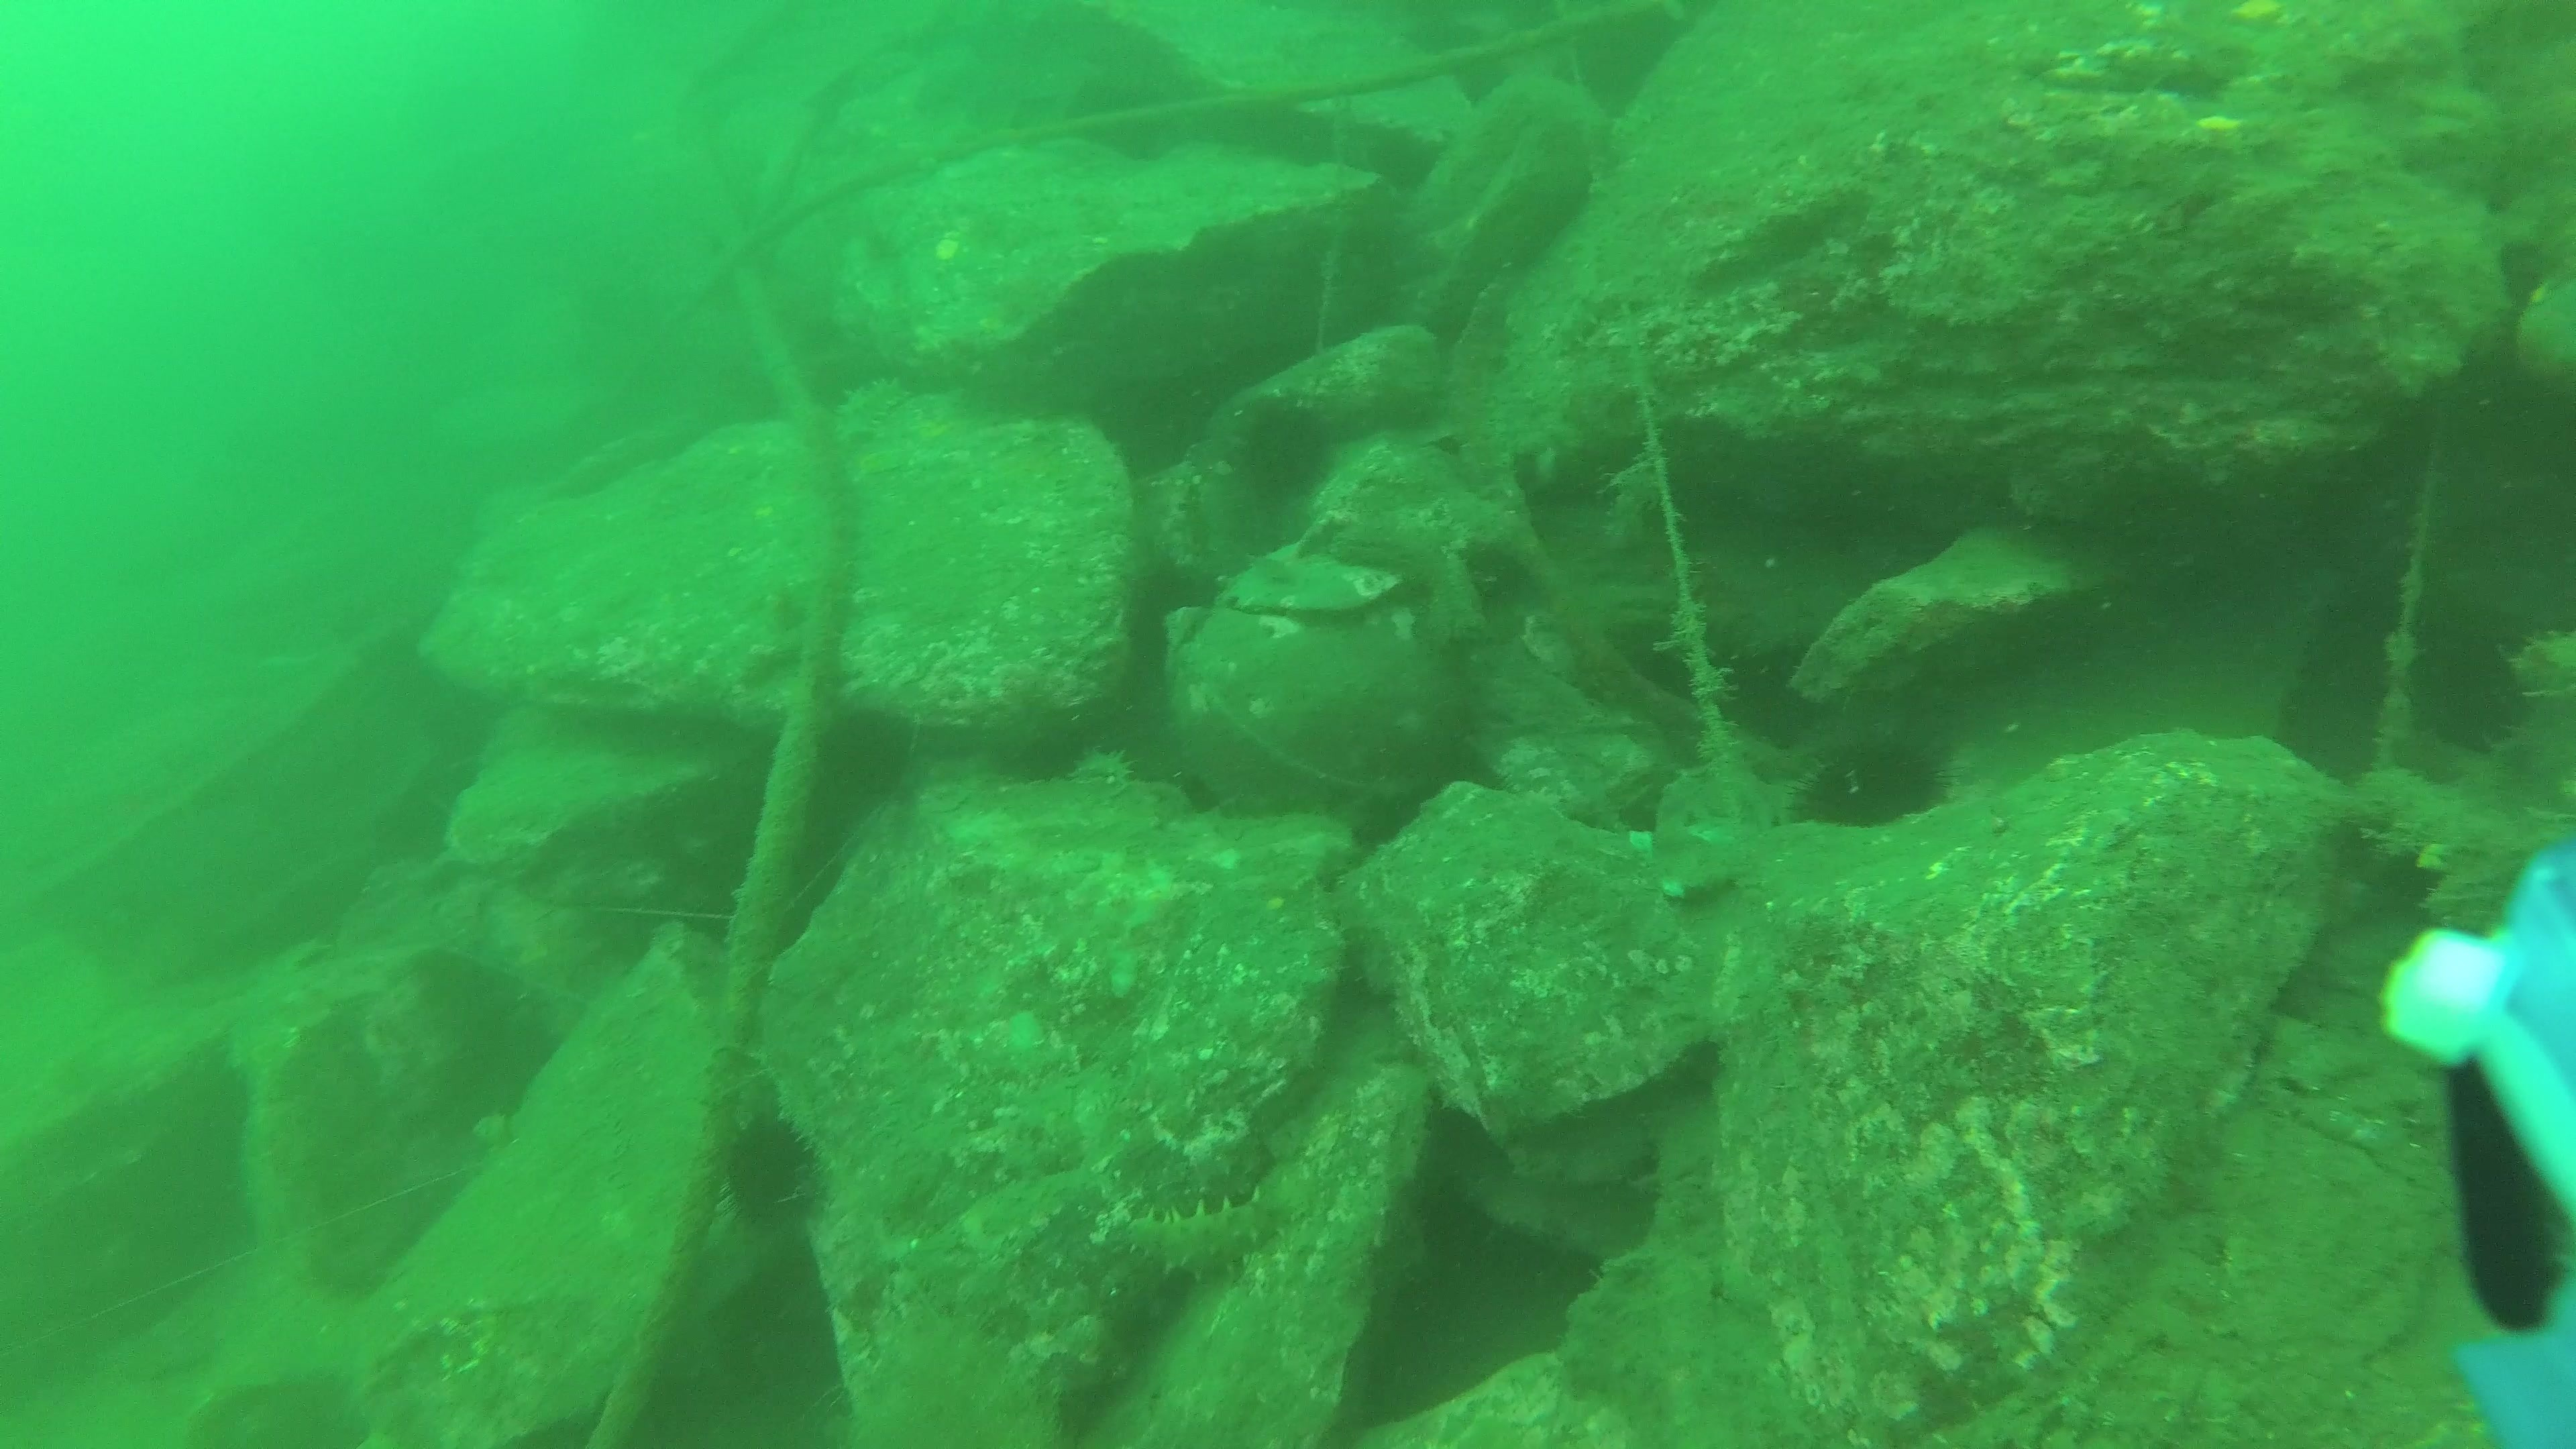echinus: (1224, 393, 1405, 517), (1782, 717, 1964, 839), (709, 1109, 830, 1253)
holothurian: (1093, 1192, 1286, 1292)
